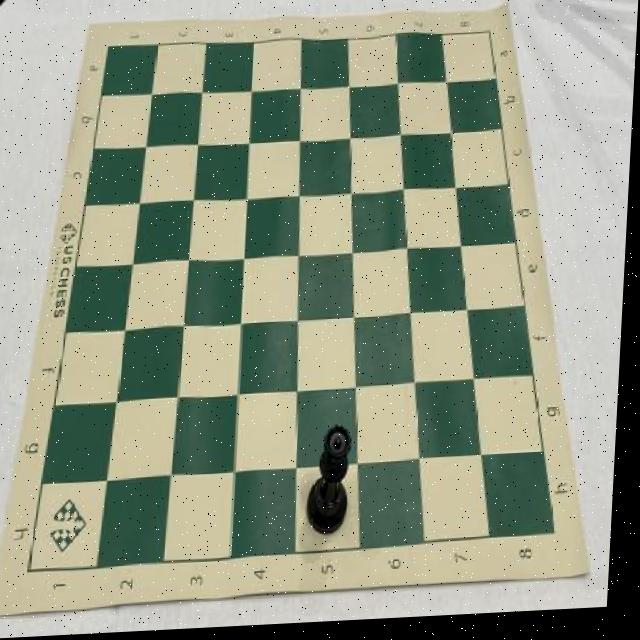black-pawn: (311, 428, 359, 541)
